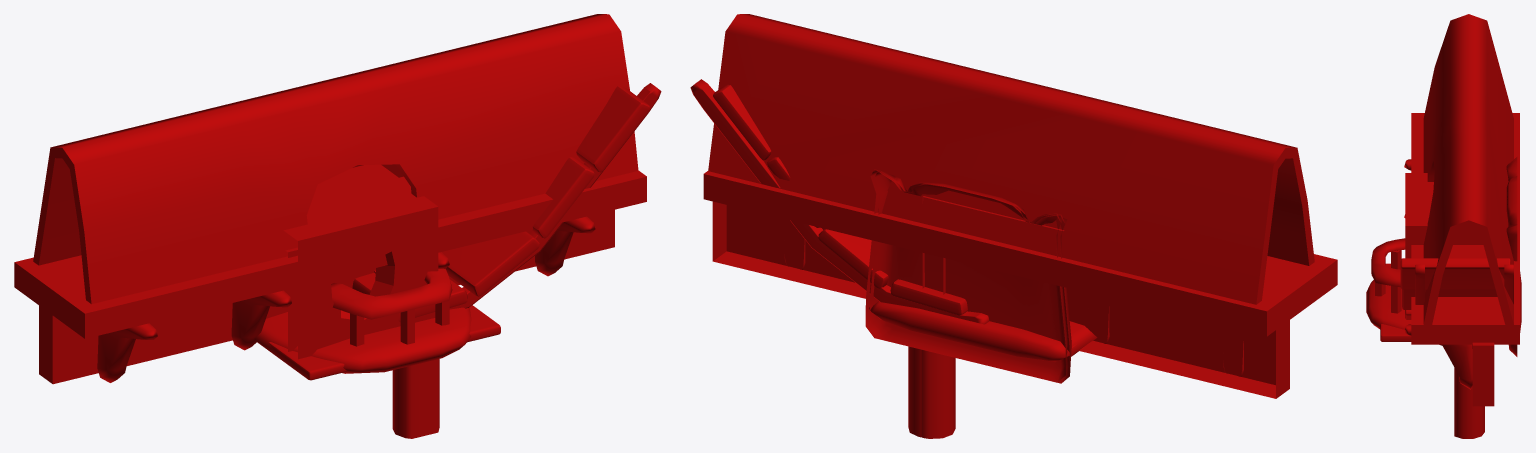
File: SM_CatObstacleCourse.fbx
3 renders of one model, left to right at view 1: azimuth 30°, elevation 25°; view 2: azimuth 150°, elevation 25°; view 3: azimuth 270°, elevation 25°, orthographic. The views are drawn at different scales.
Parts seen in each view (by area): view 1: SM_Top, SM_BoxCat, SM_ObstacleCourse_VAR, SM_BoardCurve, SM_ObstacleCourse; view 2: SM_Top, SM_ObstacleCourse_VAR, SM_BoardCurve, SM_ObstacleCourse; view 3: SM_Top, SM_BoardCurve, SM_ObstacleCourse_VAR, SM_ObstacleCourse, SM_BoxCat.
Part boxes in pixels (bbox=[...]): SM_Top: bbox=[14, 14, 646, 384]; SM_BoxCat: bbox=[283, 164, 438, 359]; SM_ObstacleCourse_VAR: bbox=[254, 268, 471, 438]; SM_BoardCurve: bbox=[352, 83, 661, 322]; SM_ObstacleCourse: bbox=[257, 305, 500, 433]; SM_Top: bbox=[703, 14, 1337, 398]; SM_ObstacleCourse_VAR: bbox=[869, 170, 1097, 438]; SM_BoardCurve: bbox=[690, 79, 989, 324]; SM_ObstacleCourse: bbox=[865, 169, 1085, 437]; SM_Top: bbox=[1404, 14, 1519, 406]; SM_BoardCurve: bbox=[1400, 258, 1513, 319]; SM_ObstacleCourse_VAR: bbox=[1366, 157, 1521, 332]; SM_ObstacleCourse: bbox=[1380, 158, 1517, 438]; SM_BoxCat: bbox=[1405, 173, 1483, 258].
Bounding box in the file's own units: 145 × 88.08 × 43.56.
